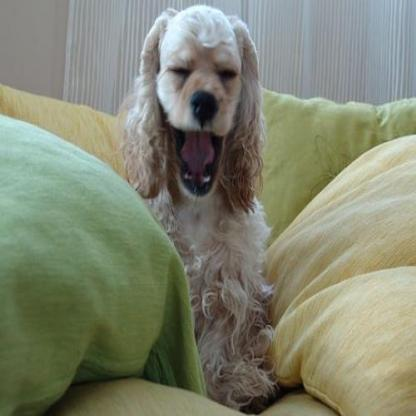cocker_spaniel: (122, 4, 270, 406)
